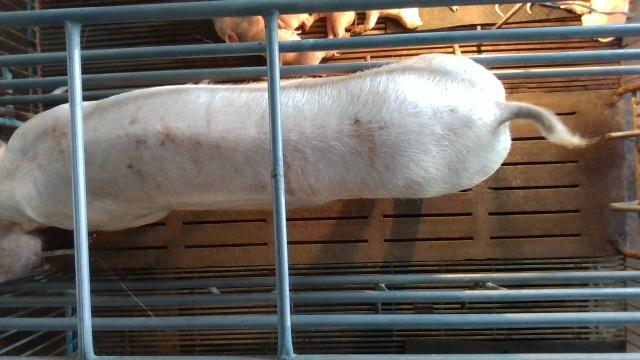piglet: (211, 16, 328, 65), (323, 8, 424, 39)
sow-stand-feed: (0, 54, 592, 281)
